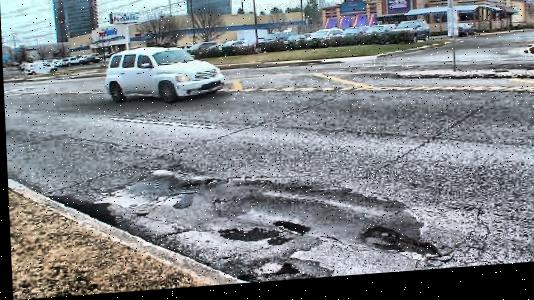pothole: (359, 226, 439, 271), (270, 220, 307, 240), (202, 178, 218, 190), (180, 182, 196, 191)
